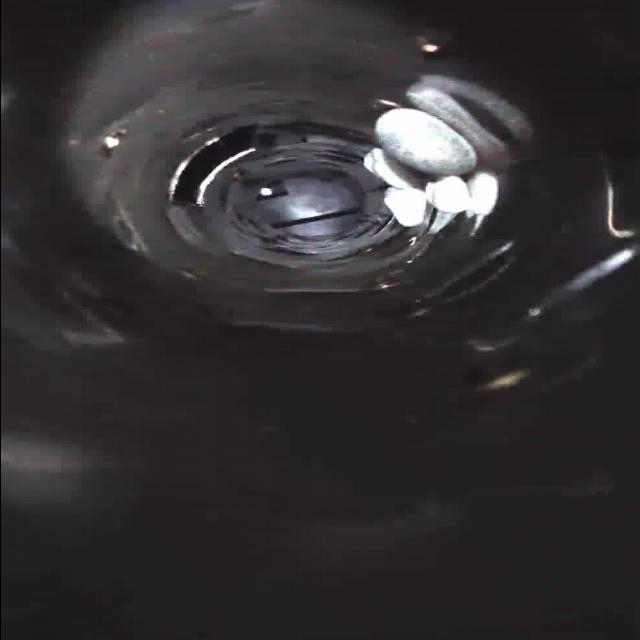hole: (158, 120, 262, 212)
